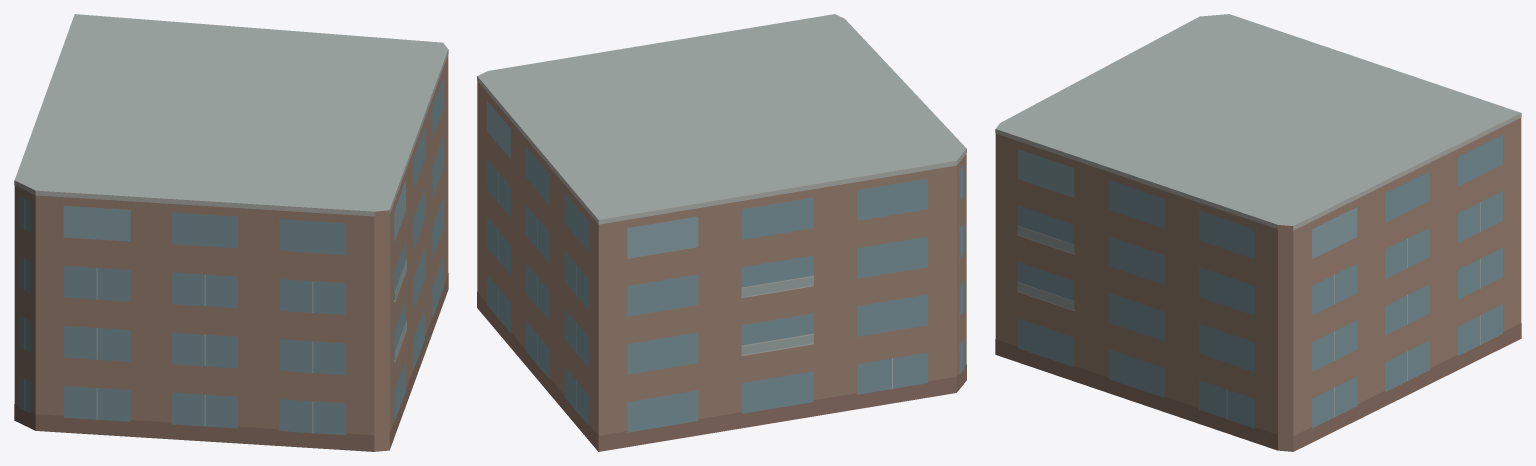
The model's file is survey-upis-32888711.glb.
3 renders of one model, left to right at view 1: azimuth 30°, elevation 25°; view 2: azimuth 150°, elevation 25°; view 3: azimuth 270°, elevation 25°, orthographic. The views are drawn at different scales.
Visible parts, largest first — view 1: survey-upis-32888711.tmp; view 2: survey-upis-32888711.tmp; view 3: survey-upis-32888711.tmp.
Part boxes in pixels (x1,y1,x2,y2): survey-upis-32888711.tmp: (14,14,448,451); survey-upis-32888711.tmp: (477,14,966,451); survey-upis-32888711.tmp: (995,14,1521,451).
Bounding box in the file's own units: 24.59 × 12.2 × 25.77.
